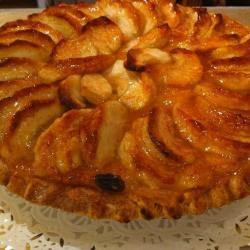apple_pie: (1, 1, 250, 225)
